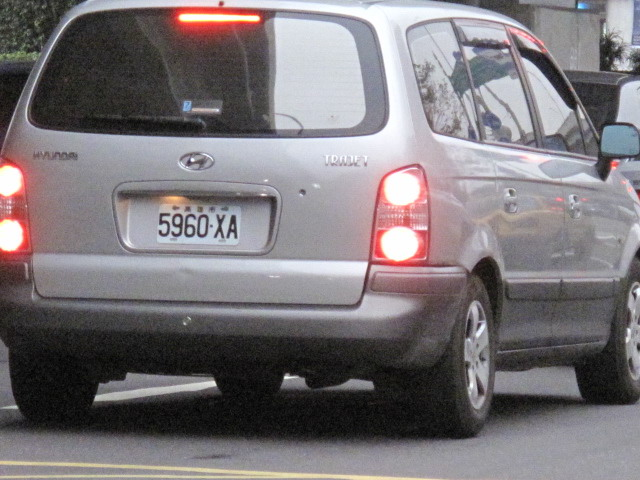plate: (153, 201, 244, 246)
